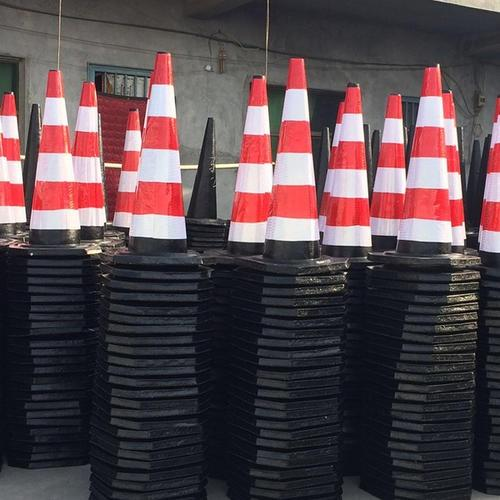cone_barrel: (261, 62, 321, 268), (131, 53, 189, 259), (25, 70, 80, 250), (318, 82, 372, 257), (225, 79, 276, 255), (406, 63, 452, 248), (369, 95, 409, 248), (68, 84, 107, 232), (112, 105, 143, 232), (185, 117, 220, 221), (476, 94, 499, 252)
